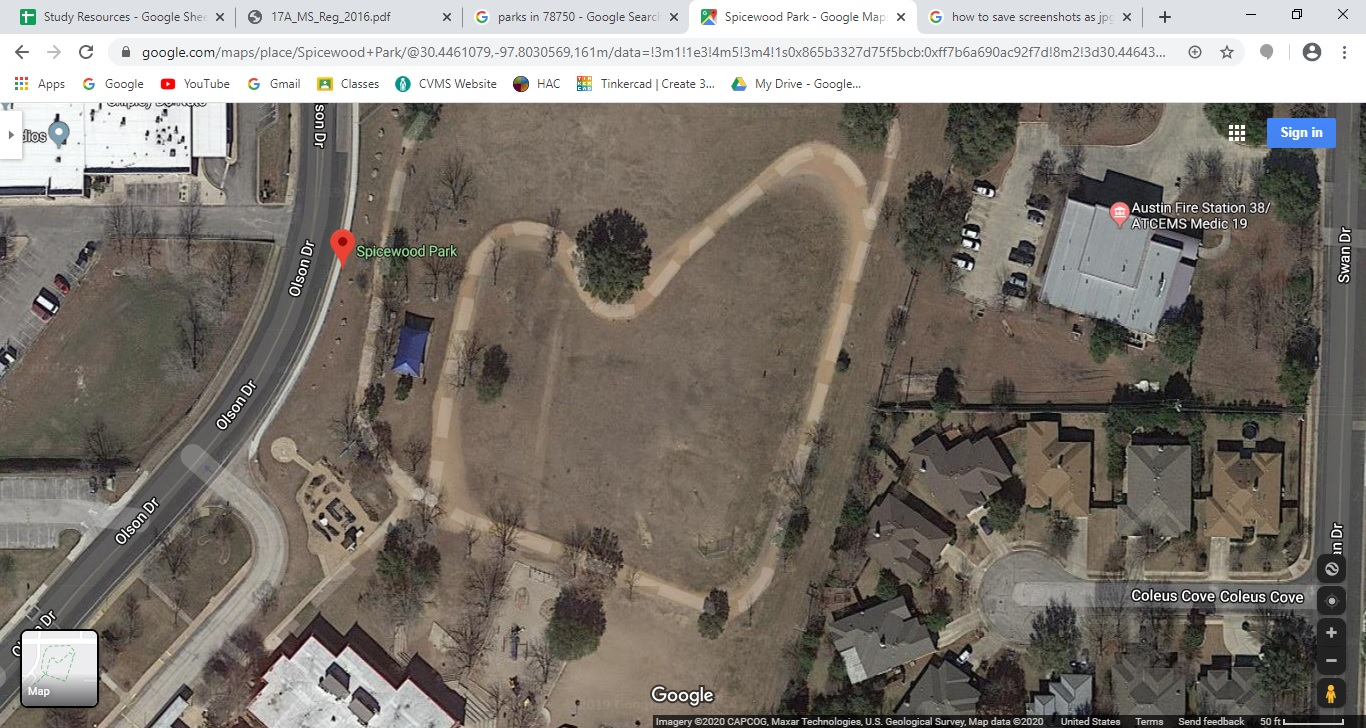soccer: (504, 330, 768, 527)
